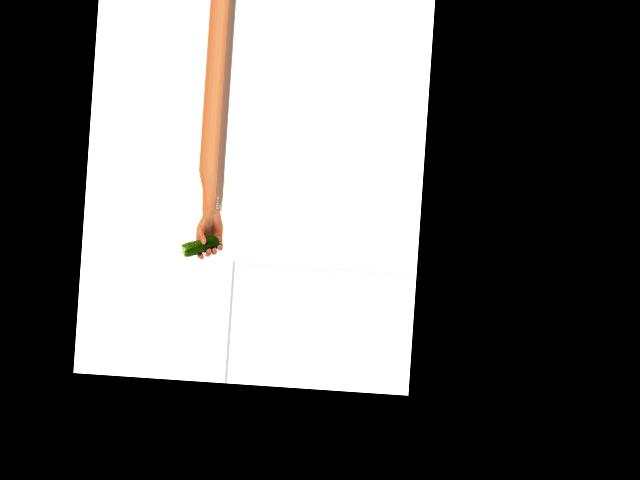cucumber: (181, 233, 220, 258)
